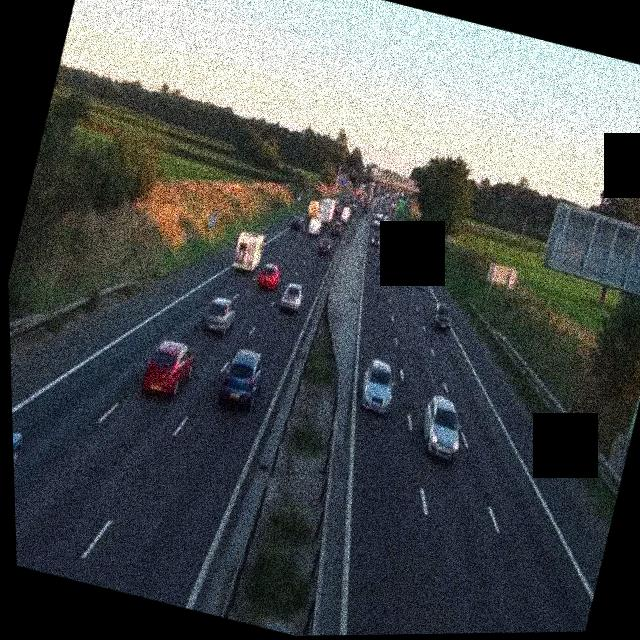car: (413, 392, 470, 464), (138, 335, 199, 402), (215, 345, 270, 412), (356, 356, 400, 414), (198, 293, 239, 338), (277, 279, 306, 313), (428, 299, 456, 333), (255, 259, 283, 291), (388, 261, 408, 284), (412, 268, 431, 291), (288, 214, 305, 233), (317, 237, 333, 257), (369, 232, 382, 248), (329, 221, 342, 237)
truck: (230, 226, 269, 276), (312, 197, 333, 225), (304, 212, 324, 237)
